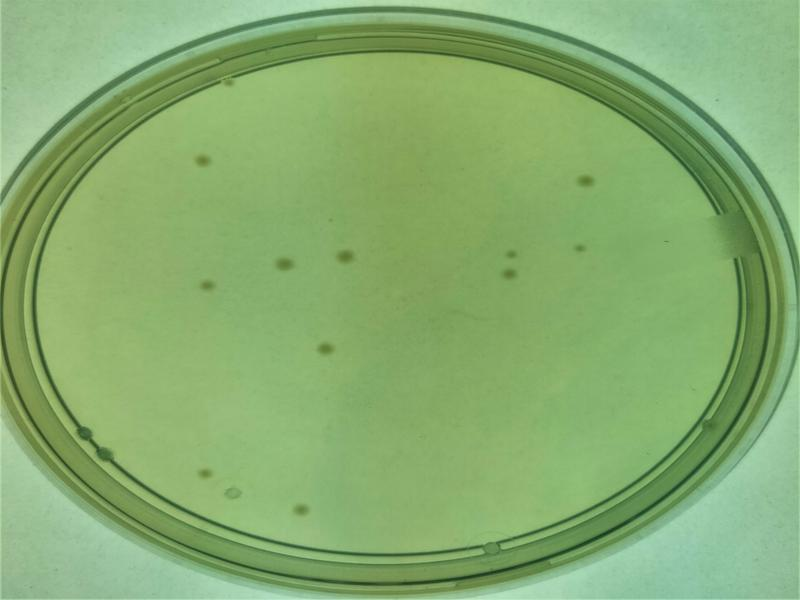colony: (314, 340, 336, 356), (275, 255, 293, 271), (193, 151, 210, 166), (333, 250, 353, 262), (579, 172, 595, 187), (291, 501, 307, 516), (199, 280, 214, 290), (504, 269, 516, 280), (507, 249, 518, 259), (199, 469, 211, 478), (574, 243, 585, 251)
